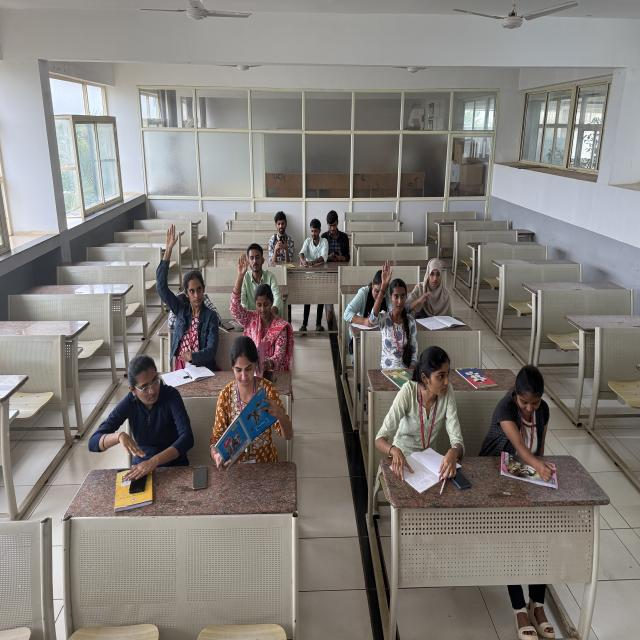Hand Rising: (151, 222, 219, 366), (228, 252, 294, 368), (366, 254, 422, 370)
Reading: (208, 335, 298, 468), (378, 343, 464, 477), (297, 218, 332, 272)
Using Phone: (262, 207, 298, 273), (324, 207, 352, 270)
